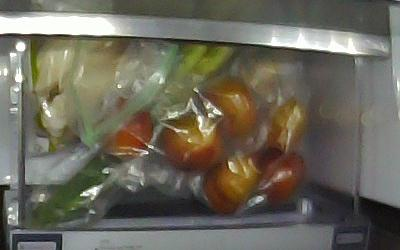prune_vinyl: (160, 109, 223, 171), (195, 76, 257, 137), (93, 97, 154, 157), (251, 146, 306, 205), (262, 93, 307, 152), (216, 154, 260, 204), (202, 162, 241, 216)
